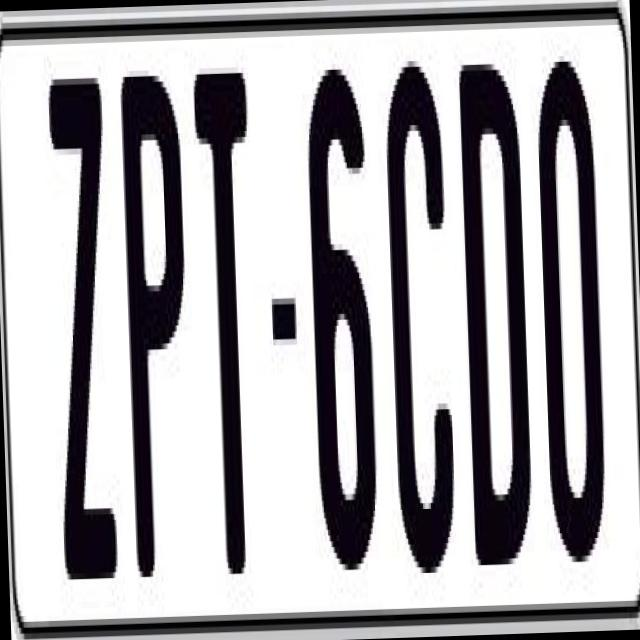0: (530, 60, 612, 574)
6: (304, 56, 386, 559)
C: (381, 54, 459, 596)
D: (458, 56, 544, 582)
P: (114, 69, 195, 577)
T: (191, 54, 267, 574)
Z: (45, 59, 124, 562)
